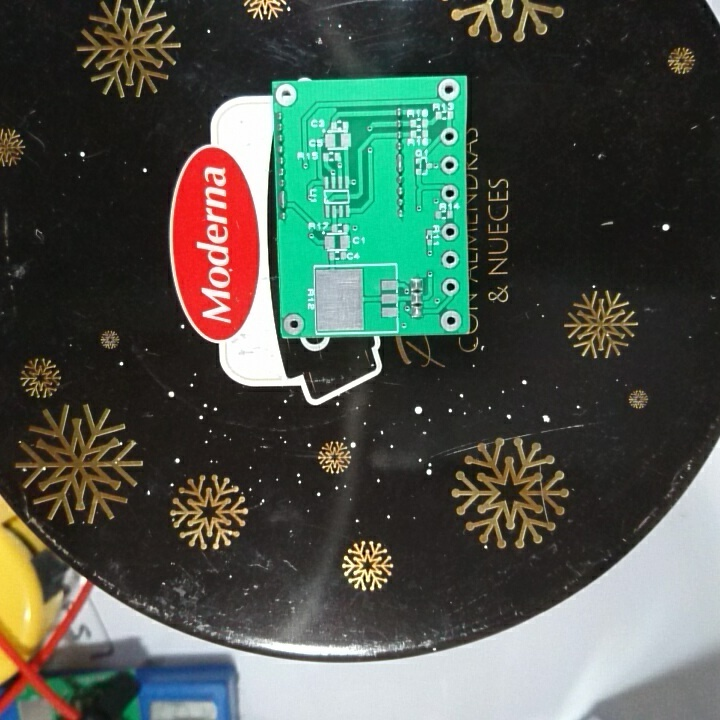F: (274, 82, 299, 109), (439, 307, 463, 335), (282, 311, 307, 337), (436, 79, 462, 103), (439, 277, 462, 300), (438, 182, 461, 202), (438, 126, 461, 146), (440, 249, 461, 270), (440, 223, 461, 243), (438, 155, 460, 172)
P: (394, 151, 407, 175), (276, 189, 290, 210)
